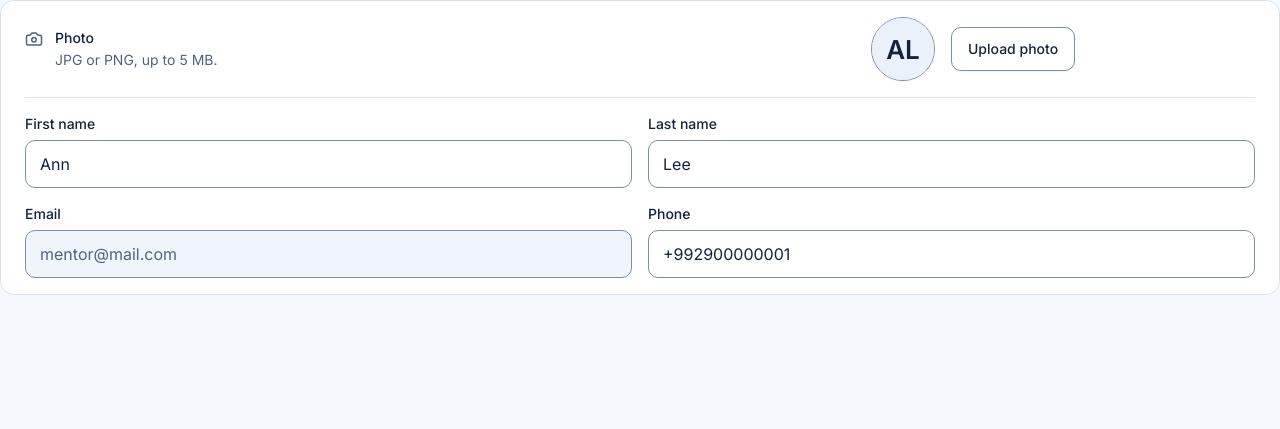
it: profile save errors › maps a duplicate phone 409 onto the phone field
Step 1. Replace the text in the field labelled "Phone" with "+992900000002" → (952,254), box [648,230,1255,278]
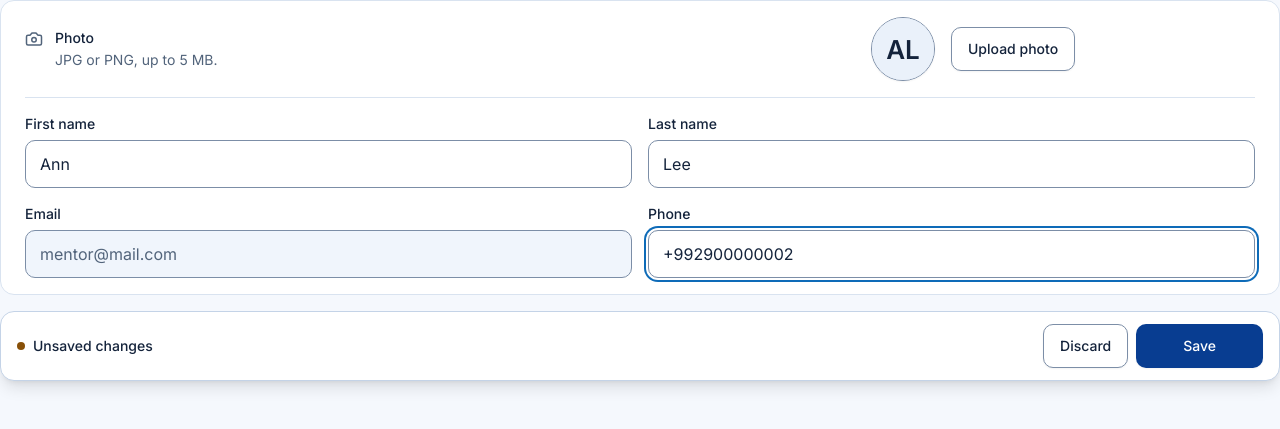
Step 2. Click the button "Save" → (1200,346), box [1136,324,1263,368]
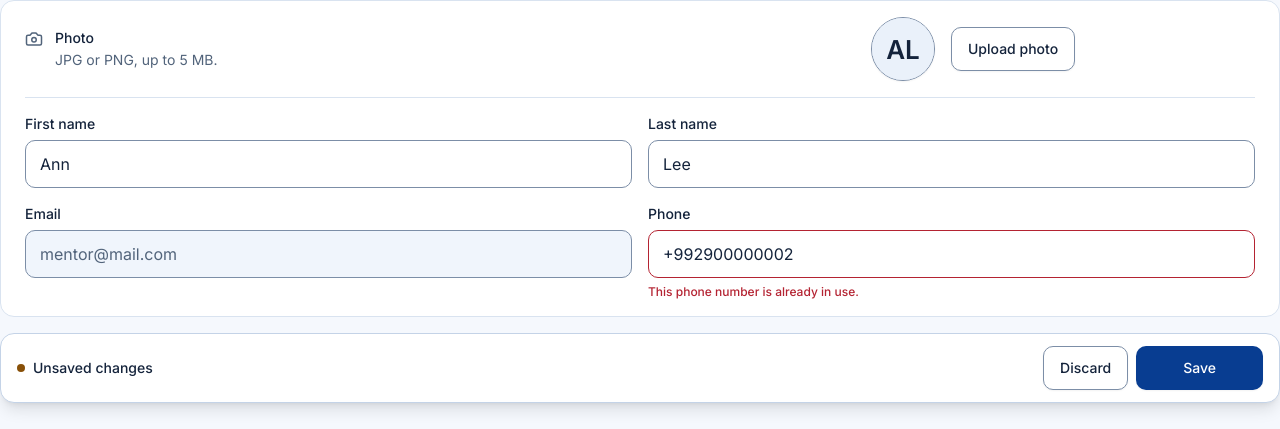
Expected: the text "This phone number is already in use." is shown, [648,284,859,299]
